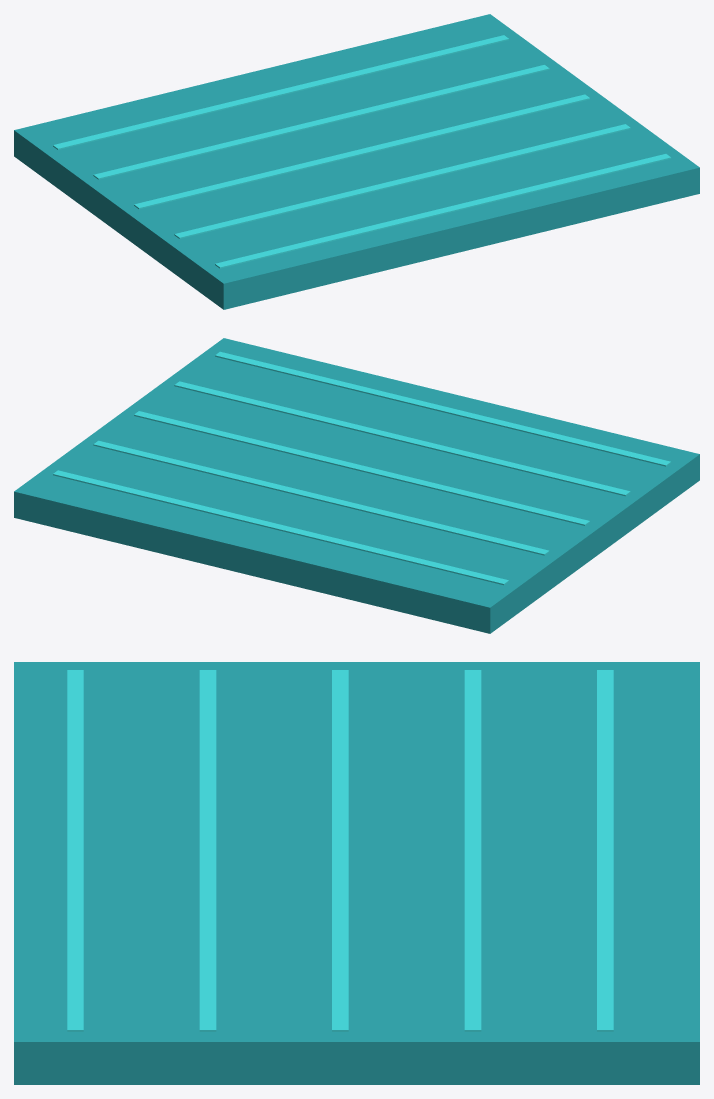
File: garage-door.glb
3 views of the same model, one above another, from view 1: azimuth 30°, elevation 25°; view 2: azimuth 150°, elevation 25°; view 3: azimuth 270°, elevation 25° (orthographic). The views are drawn at different scales.
Parts seen in each view (by area): view 1: world; view 2: world; view 3: world.
Boxes of the visible parts, x1,y1,x2,y2 form: world: (14,14,699,309); world: (14,338,699,633); world: (14,662,699,1084).
Bounding box in the file's own units: 1.9 × 0.11 × 1.45.
